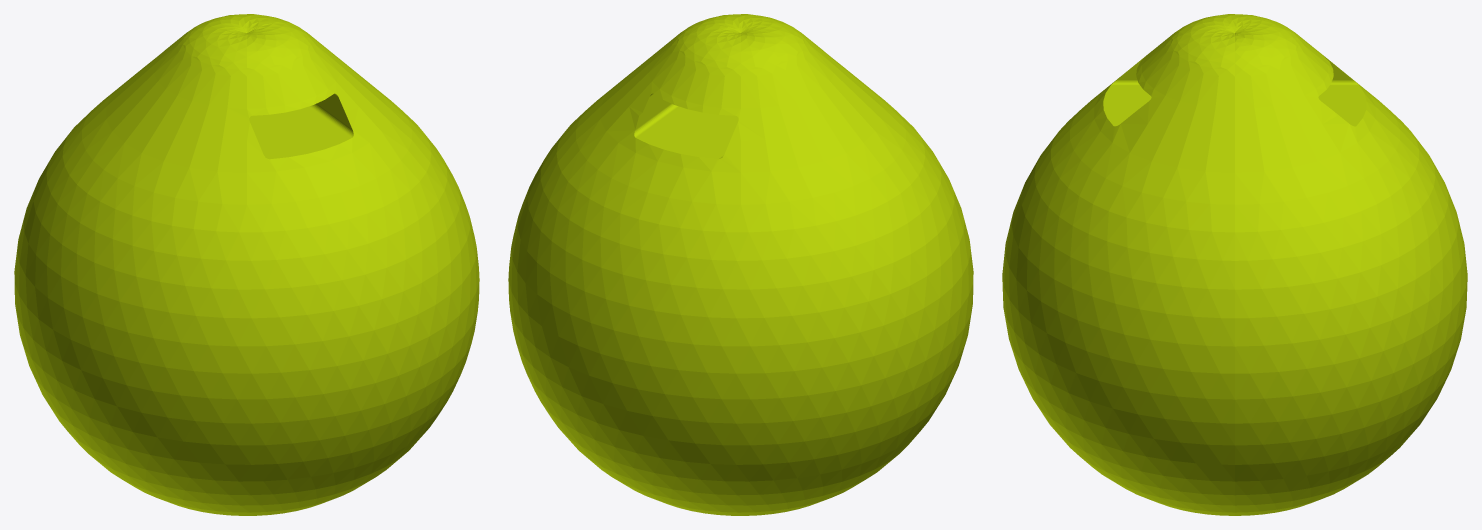
Rendered from yellow_ball.obj.
3 views of the same model, side by side, from view 1: azimuth 30°, elevation 25°; view 2: azimuth 150°, elevation 25°; view 3: azimuth 270°, elevation 25° (orthographic).
Parts seen in each view (by area): view 1: ball_buoy; view 2: ball_buoy; view 3: ball_buoy.
Boxes of the visible parts, box(x1,y1,x2,y2) form: ball_buoy: box(14, 14, 479, 515); ball_buoy: box(508, 14, 973, 515); ball_buoy: box(1002, 14, 1467, 515).
Bounding box in the file's own units: 11.76 × 12.98 × 11.77.
